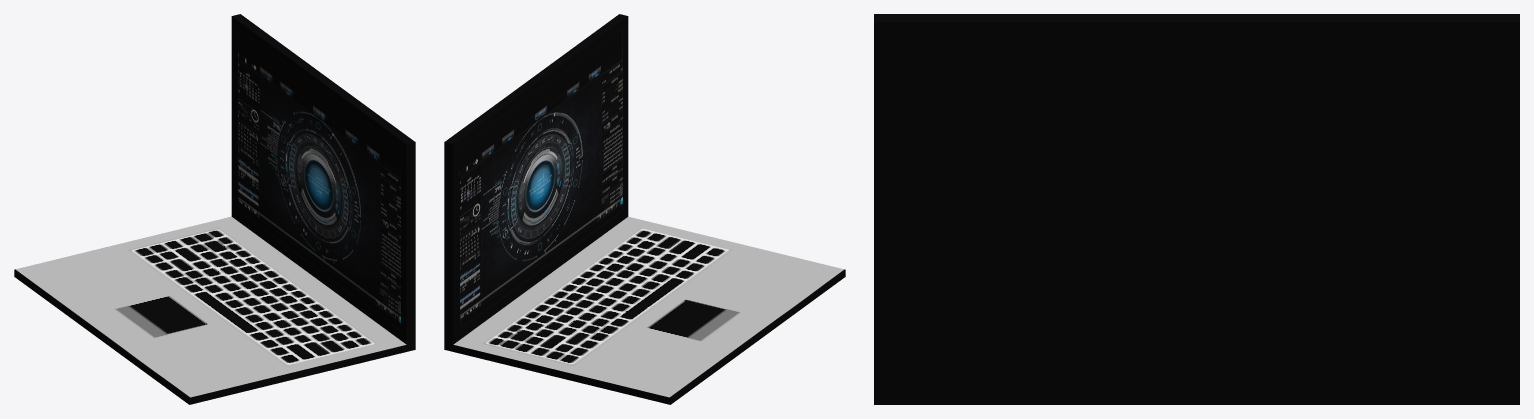
File: Laptop_GenMain8.fbx
3 renders of one model, left to right at view 1: azimuth 30°, elevation 25°; view 2: azimuth 150°, elevation 25°; view 3: azimuth 270°, elevation 25°, orthographic. The views are drawn at different scales.
Visible parts, largest first — view 1: Laptop; view 2: Laptop; view 3: Laptop.
Part boxes in pixels (x1=…): Laptop: x1=14, y1=14, x2=415, y2=404; Laptop: x1=444, y1=14, x2=845, y2=404; Laptop: x1=874, y1=14, x2=1519, y2=404.
Bounding box in the file's own units: 42.42 × 37.21 × 56.87.
